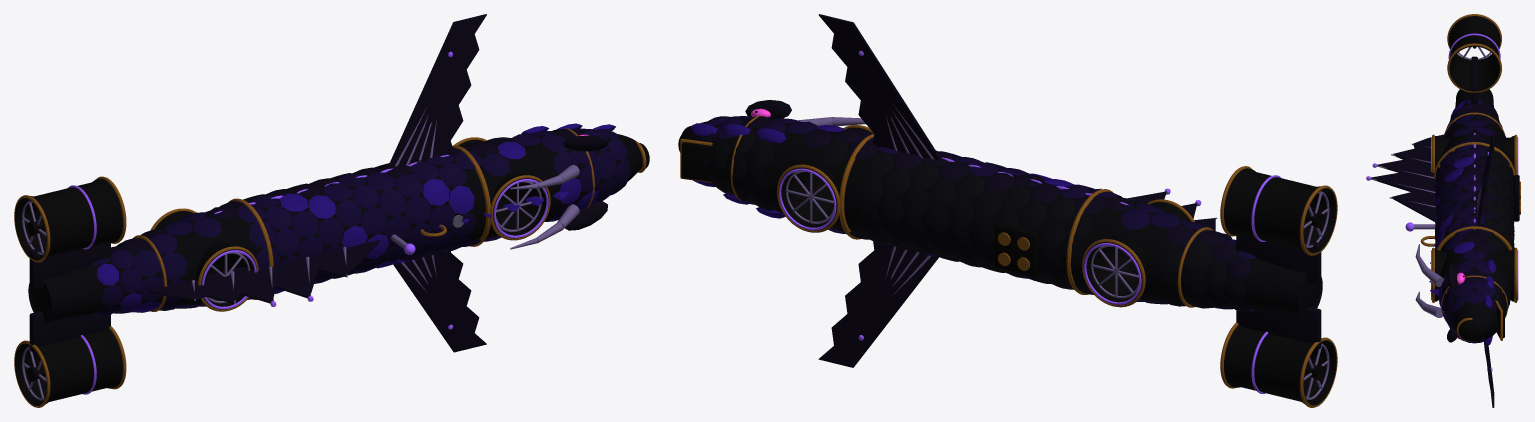
Rendered from hull.obj.
3 renders of one model, left to right at view 1: azimuth 30°, elevation 25°; view 2: azimuth 150°, elevation 25°; view 3: azimuth 270°, elevation 25°, orthographic. The views are drawn at different scales.
Parts seen in each view (by area): view 1: knucker_hull; view 2: knucker_hull; view 3: knucker_hull.
Boxes of the visible parts, x1,y1,x2,y2 form: knucker_hull: (14,14,649,407); knucker_hull: (678,14,1337,407); knucker_hull: (1366,14,1520,407).
Bounding box in the file's own units: 1.32 × 0.6809 × 0.365.
